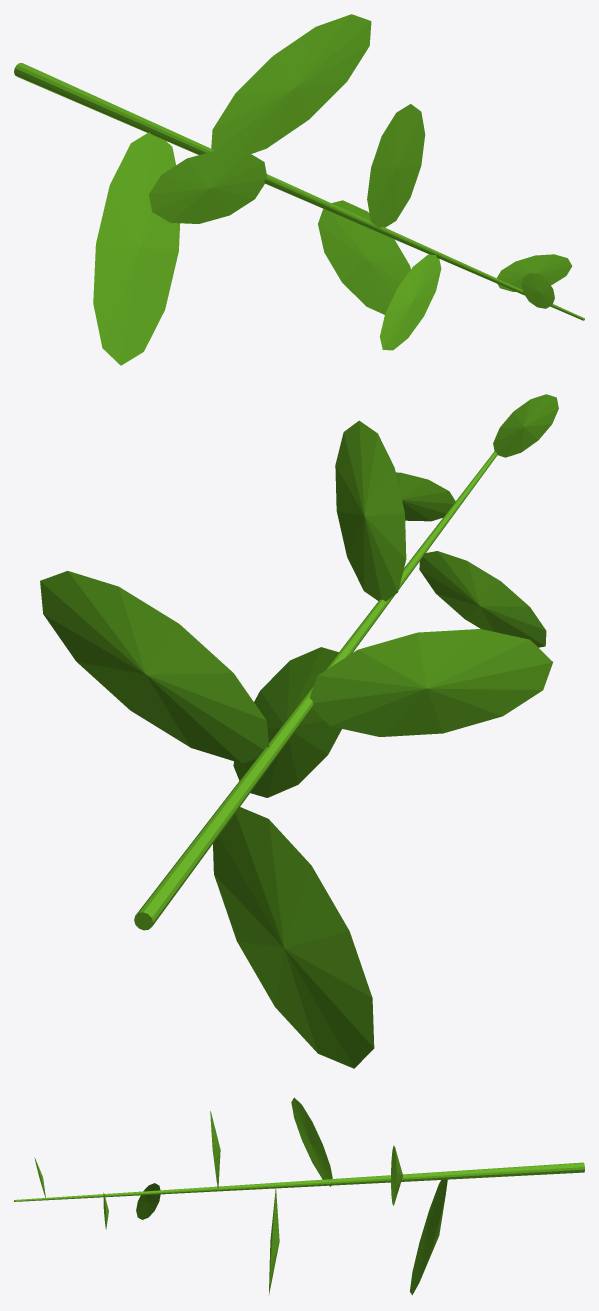
3 renders of one model, top to bottom at view 1: azimuth 30°, elevation 25°; view 2: azimuth 150°, elevation 25°; view 3: azimuth 270°, elevation 25°, orthographic. The views are drawn at different scales.
Size of the model in its own units: 0.1447 by 0.1541 by 0.3507.
